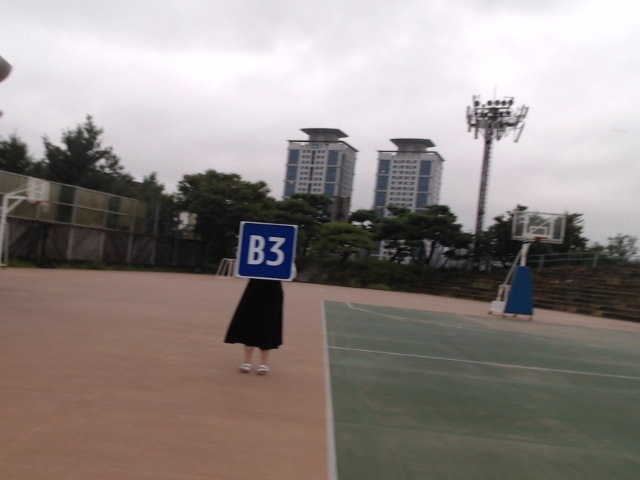delivery_b3: (237, 222, 297, 280)
